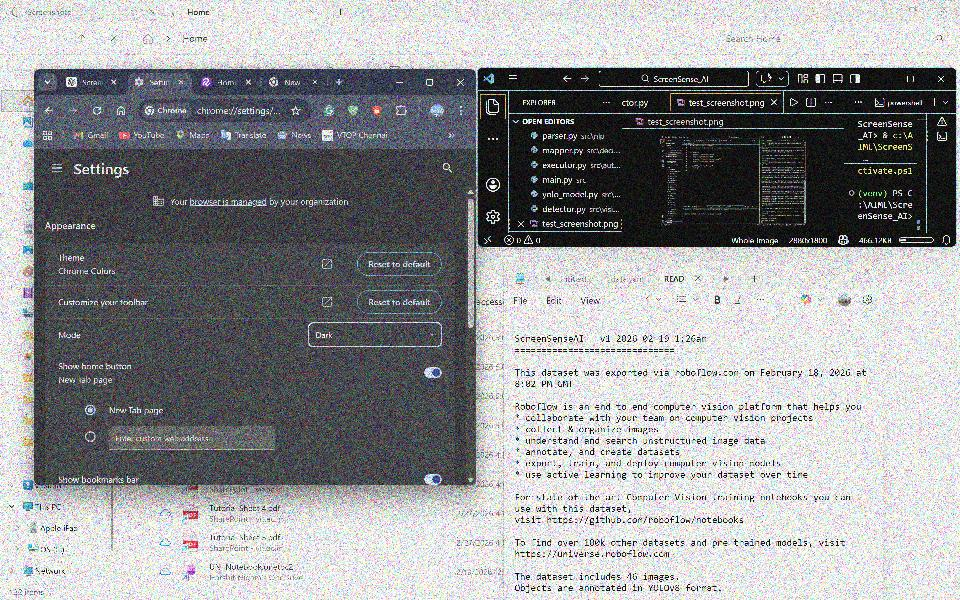close_button: (448, 72, 473, 92), (857, 265, 877, 283), (932, 70, 951, 87), (936, 2, 952, 19)
maximize_button: (421, 72, 441, 94), (826, 265, 848, 284), (903, 2, 922, 20), (901, 69, 920, 87)
minimize_button: (390, 71, 411, 94), (796, 265, 816, 282), (872, 69, 889, 88), (873, 2, 891, 17)
